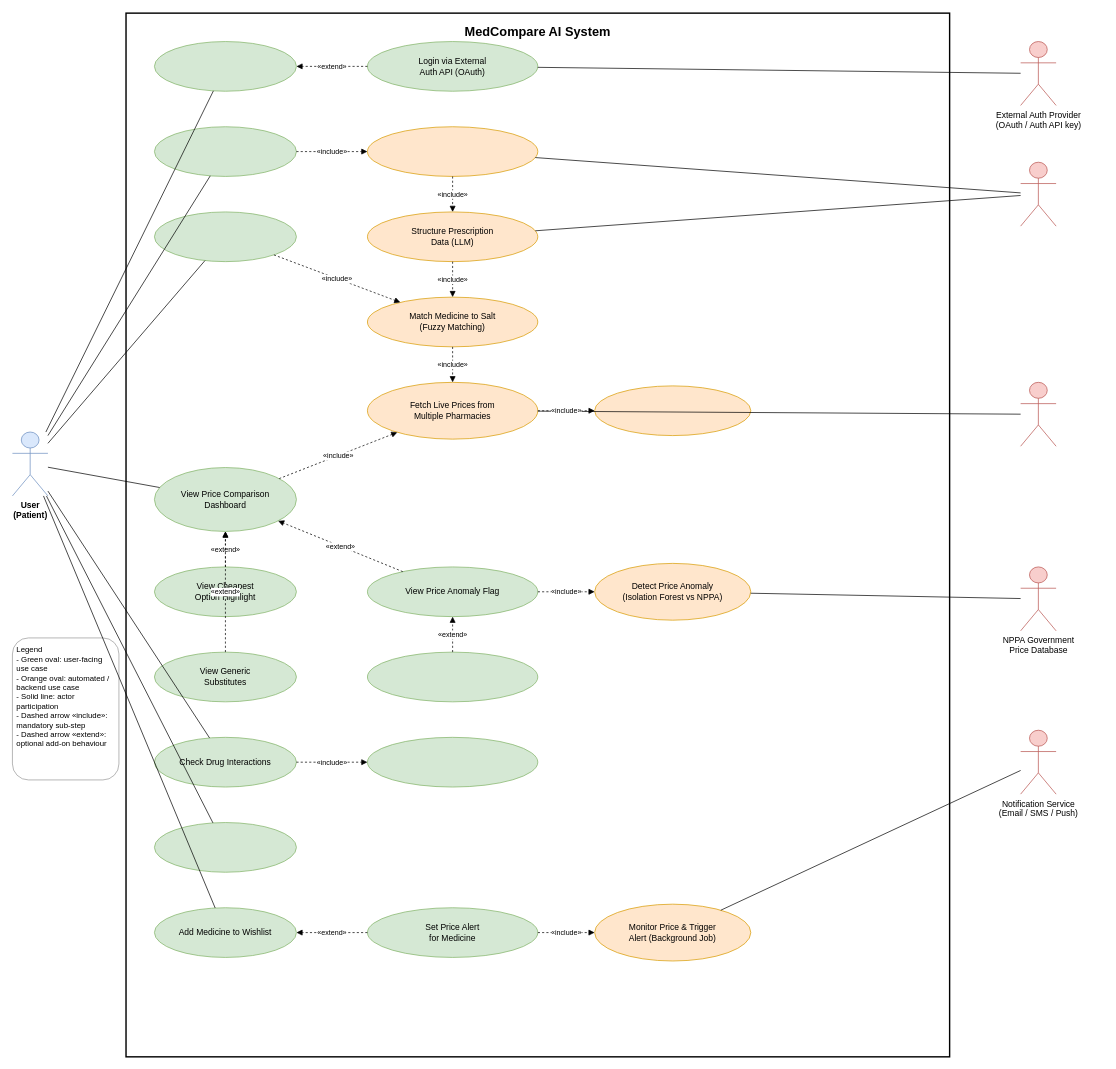
Image size: 1116x1069. Some labels were removed from this diagram. The box of each missing label's shape, as (x1, y1, x2, y2) in pixels:
Cache Price Data (Redis): (594, 385, 751, 436)
Extract Text via OCR: (367, 126, 538, 176)
OCR / LLM AI Service (prescription reading & structuring): (1020, 162, 1056, 226)
Online Pharmacy Platforms (1mg, PharmEasy, Netmeds, Truemeds, Apollo 24/7): (1020, 382, 1056, 446)
Register / Login: (154, 41, 296, 91)
Search Medicine by Name: (154, 211, 296, 262)
Upload Prescription Photo: (154, 126, 296, 176)
View Anomaly Explanation (SHAP): (367, 651, 538, 702)
View Interaction Warning: (367, 737, 538, 787)
View Price History Trends: (154, 822, 296, 872)
